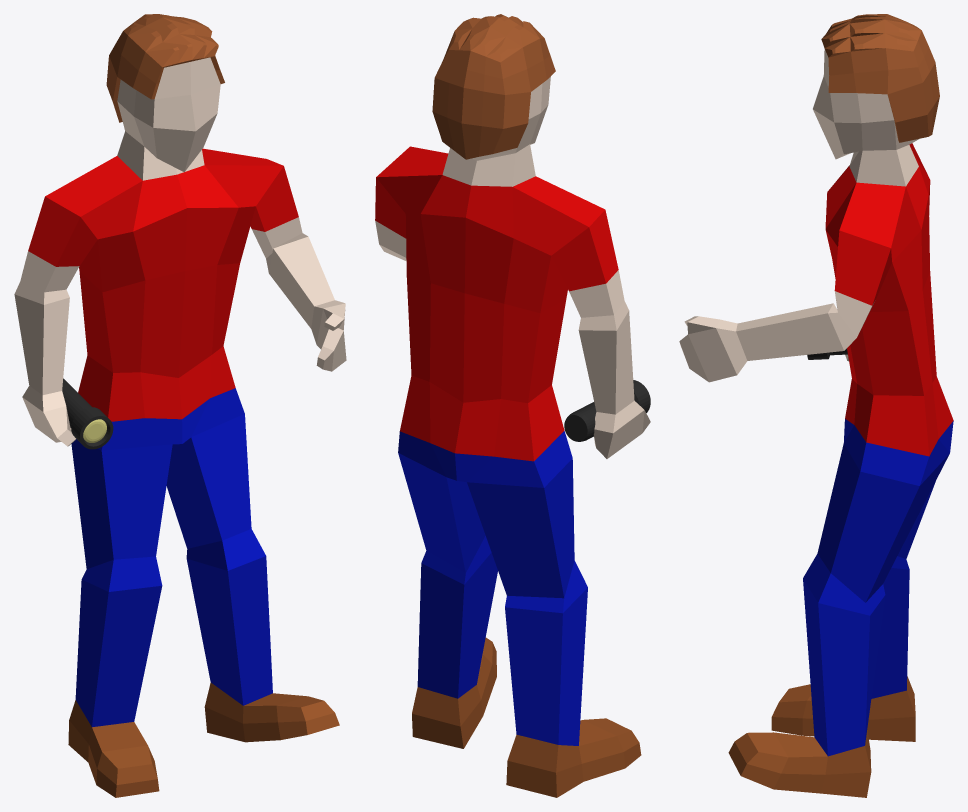
The model's file is Human_grabbing_13.fbx.
3 renders of one model, left to right at view 1: azimuth 30°, elevation 25°; view 2: azimuth 150°, elevation 25°; view 3: azimuth 270°, elevation 25°, orthographic. The views are drawn at different scales.
Parts seen in each view (by area): view 1: Person.003, Cylinder.002; view 2: Person.003, Cylinder.002; view 3: Person.003.
Part boxes in pixels (<box>): Person.003: <box>14,14,346,797</box>; Cylinder.002: <box>62,378,113,449</box>; Person.003: <box>375,14,650,797</box>; Cylinder.002: <box>564,380,650,441</box>; Person.003: <box>679,14,953,797</box>.
Bounding box in the file's own units: 0.589 × 1.57 × 0.527.
